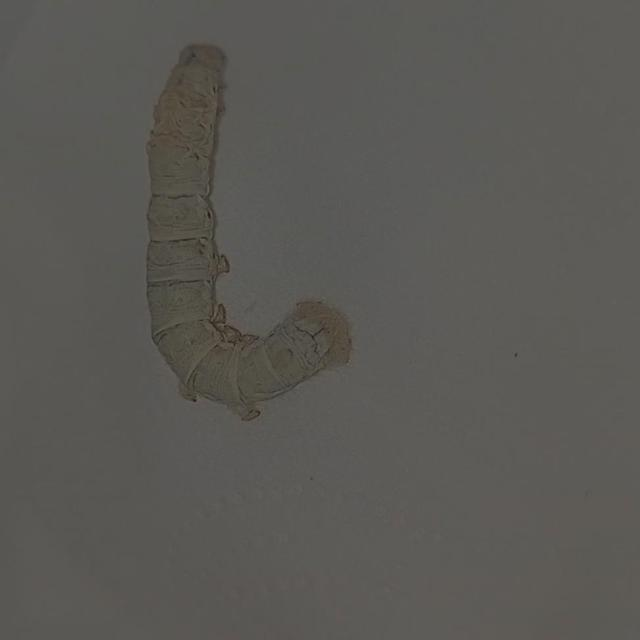Healthy: (127, 31, 366, 426)
